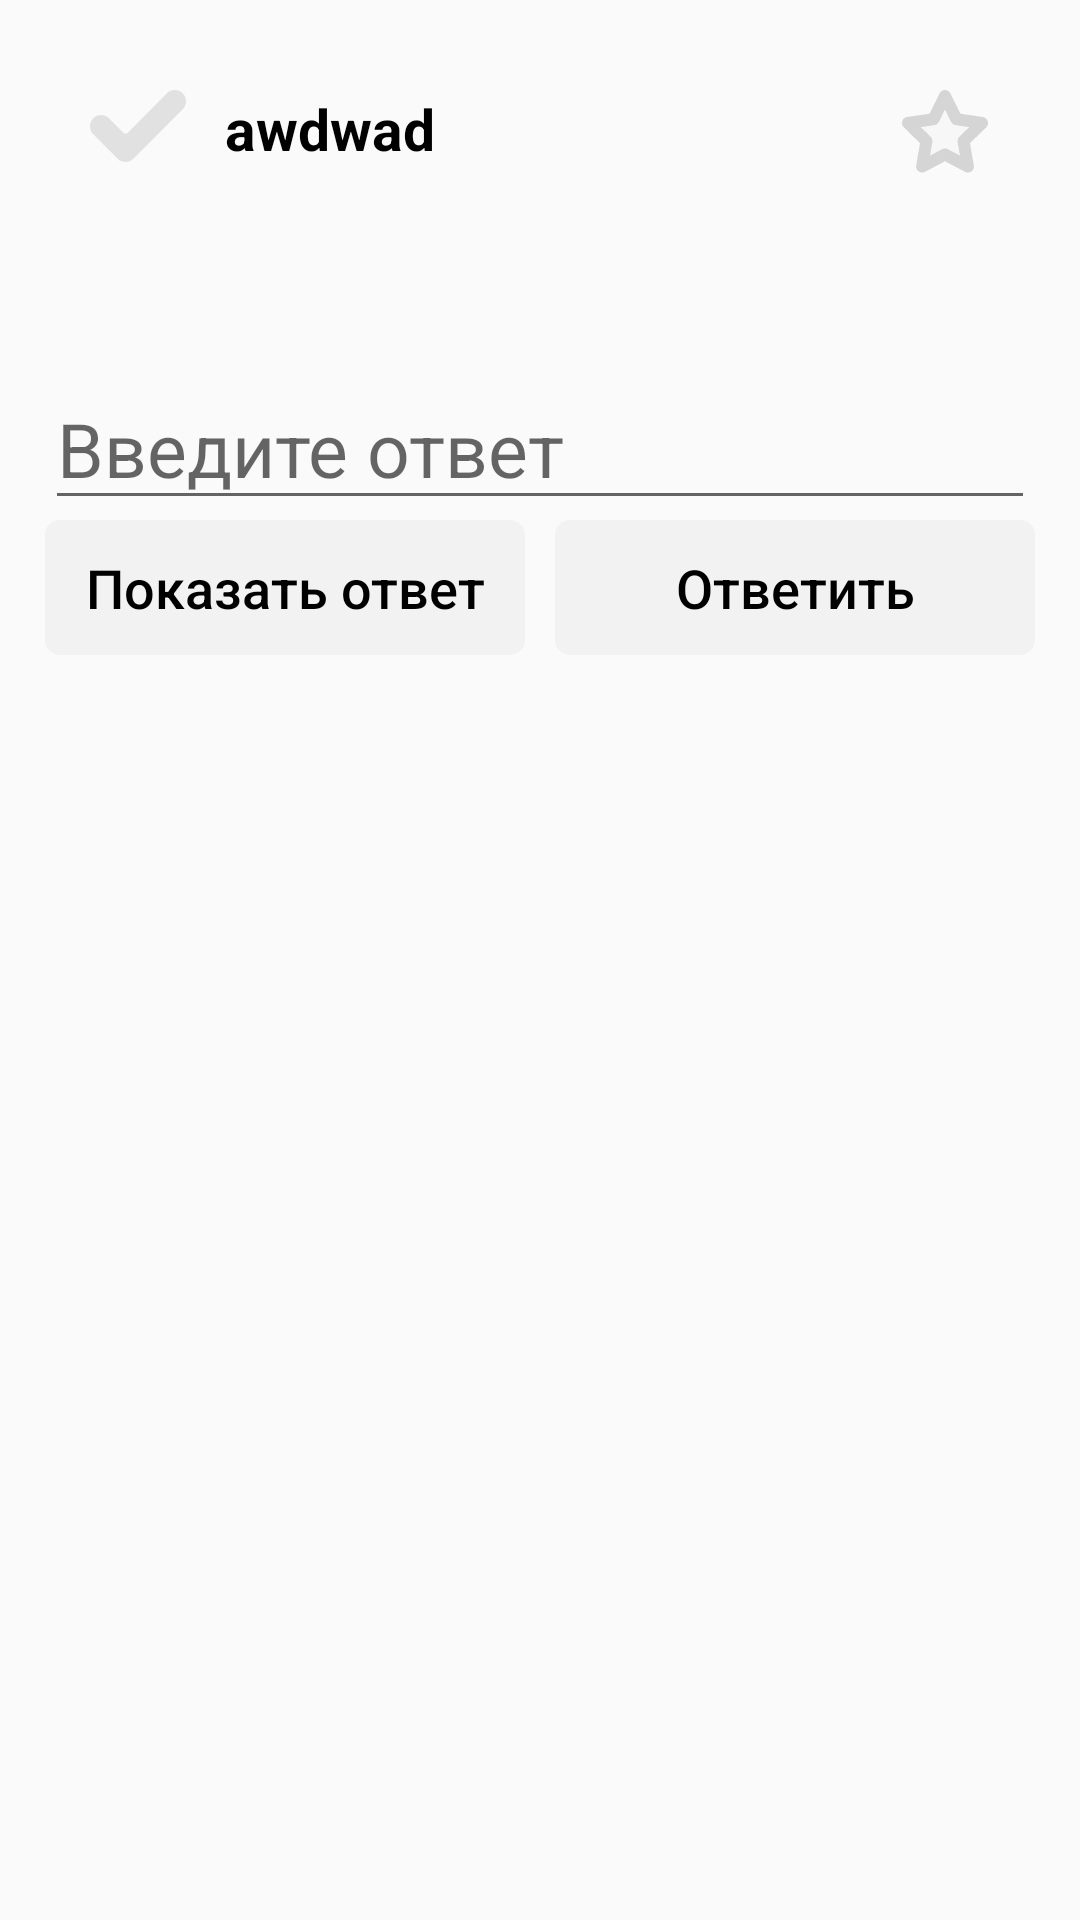

Screen size 1080 × 1920. Icon name, then its center in pixels as (x,y):
uncompleted: (138,126)
unstar: (945,131)
